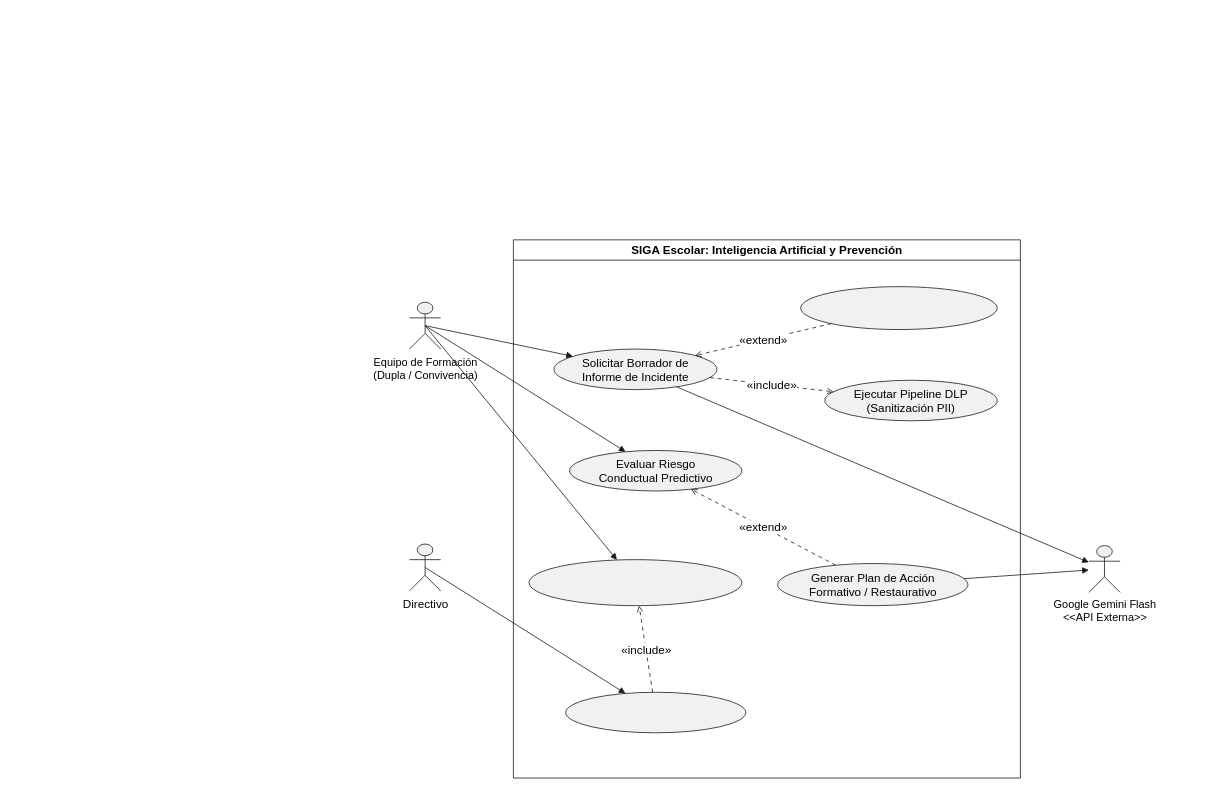
The diagram is 1225 pixels wide and 792 high, and some of its shapes have lost their labels. Here are the shapes that lost their labels. From the top down, the centre of each, then its label:
(x=898, y=308): Activar Degradación Grácil (Circuit Breaker)
(x=635, y=582): Editar Modularmente Borrador (Human-in-the-Loop)
(x=655, y=712): Oficializar Reporte con Código Verificador
